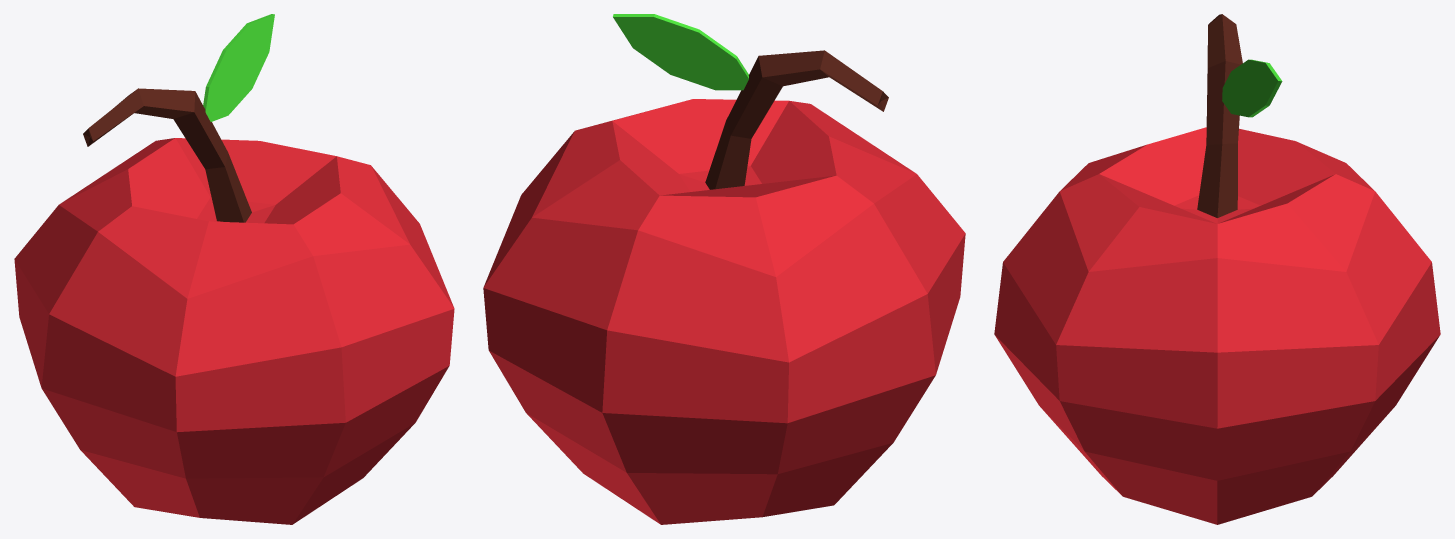
File: Apple_PS1_2.fbx
3 renders of one model, left to right at view 1: azimuth 30°, elevation 25°; view 2: azimuth 150°, elevation 25°; view 3: azimuth 270°, elevation 25°, orthographic. The views are drawn at different scales.
Parts seen in each view (by area): view 1: Apple, Leaf; view 2: Apple, Leaf; view 3: Apple, Leaf.
Part boxes in pixels (left/top/right/bottom): Apple: left=14, top=88, right=454, bottom=524; Leaf: left=203, top=14, right=274, bottom=121; Apple: left=483, top=50, right=965, bottom=524; Leaf: left=613, top=14, right=748, bottom=90; Apple: left=994, top=14, right=1440, bottom=524; Leaf: left=1222, top=59, right=1282, bottom=117.
Size of the model in its own units: 69.28 by 74.06 by 69.28.
